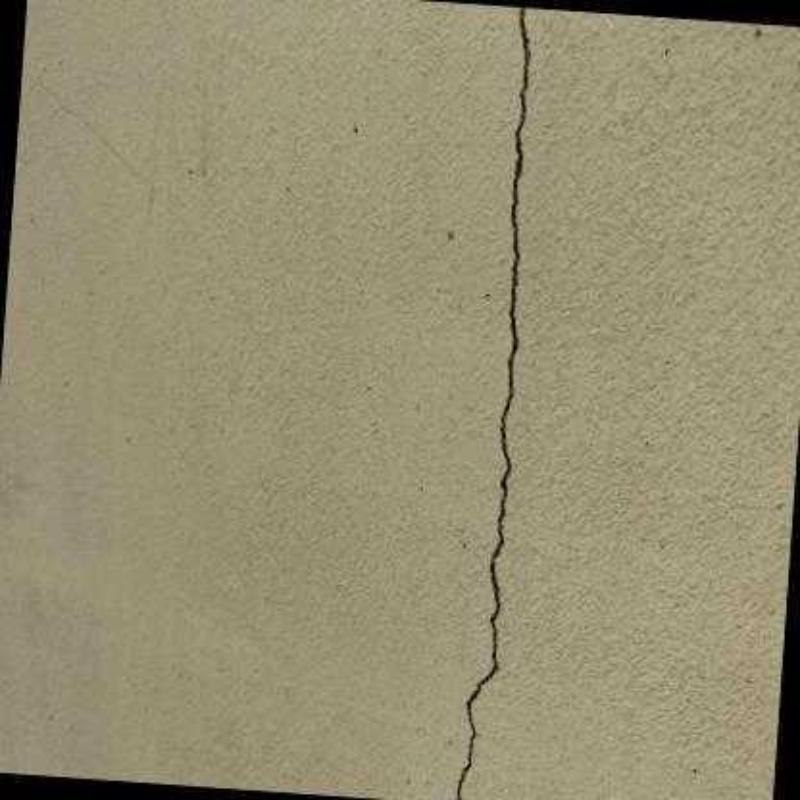crack: (456, 8, 529, 800)
